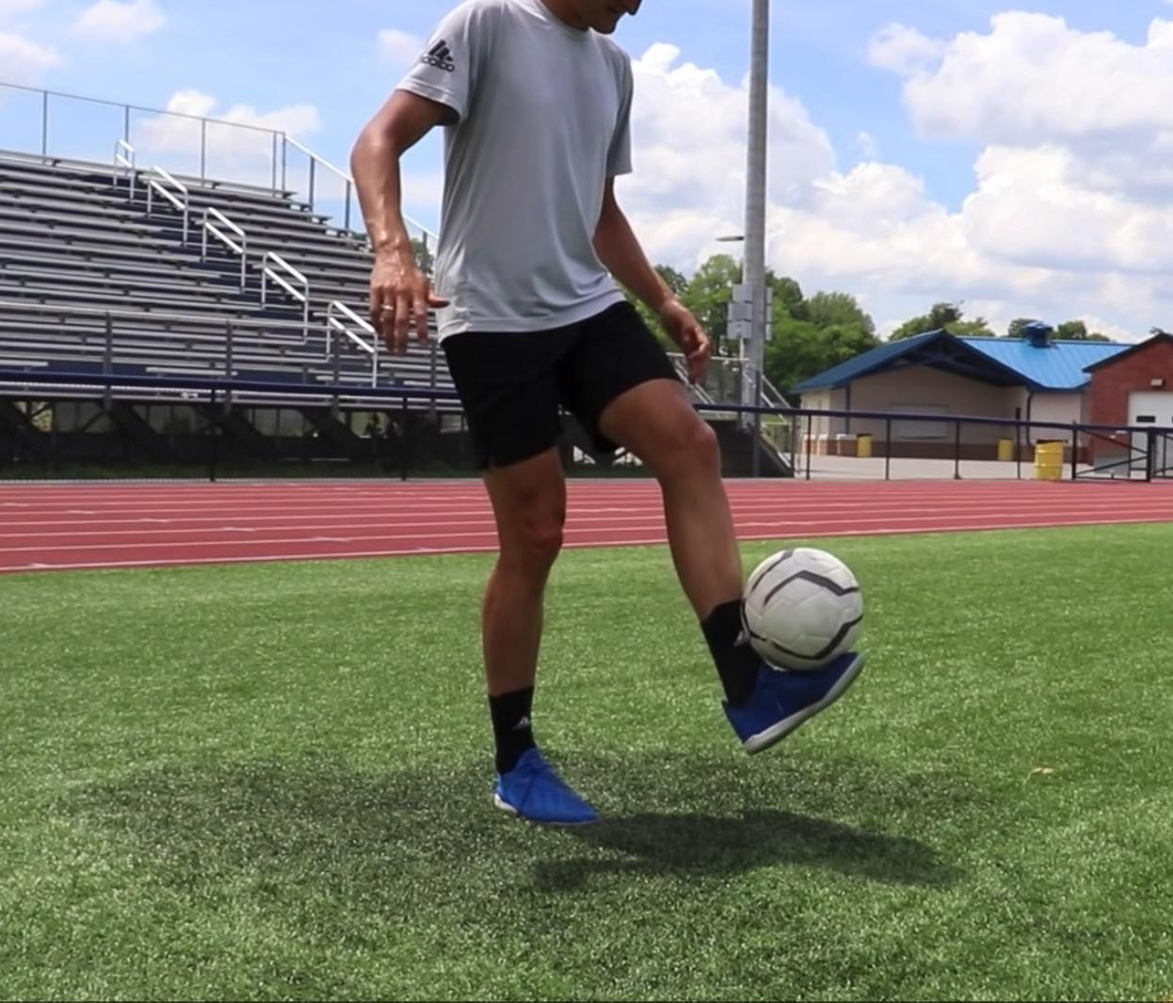ball: (741, 544, 867, 671)
foot: (721, 653, 862, 757), (494, 745, 604, 822)
person: (345, 0, 862, 826)
